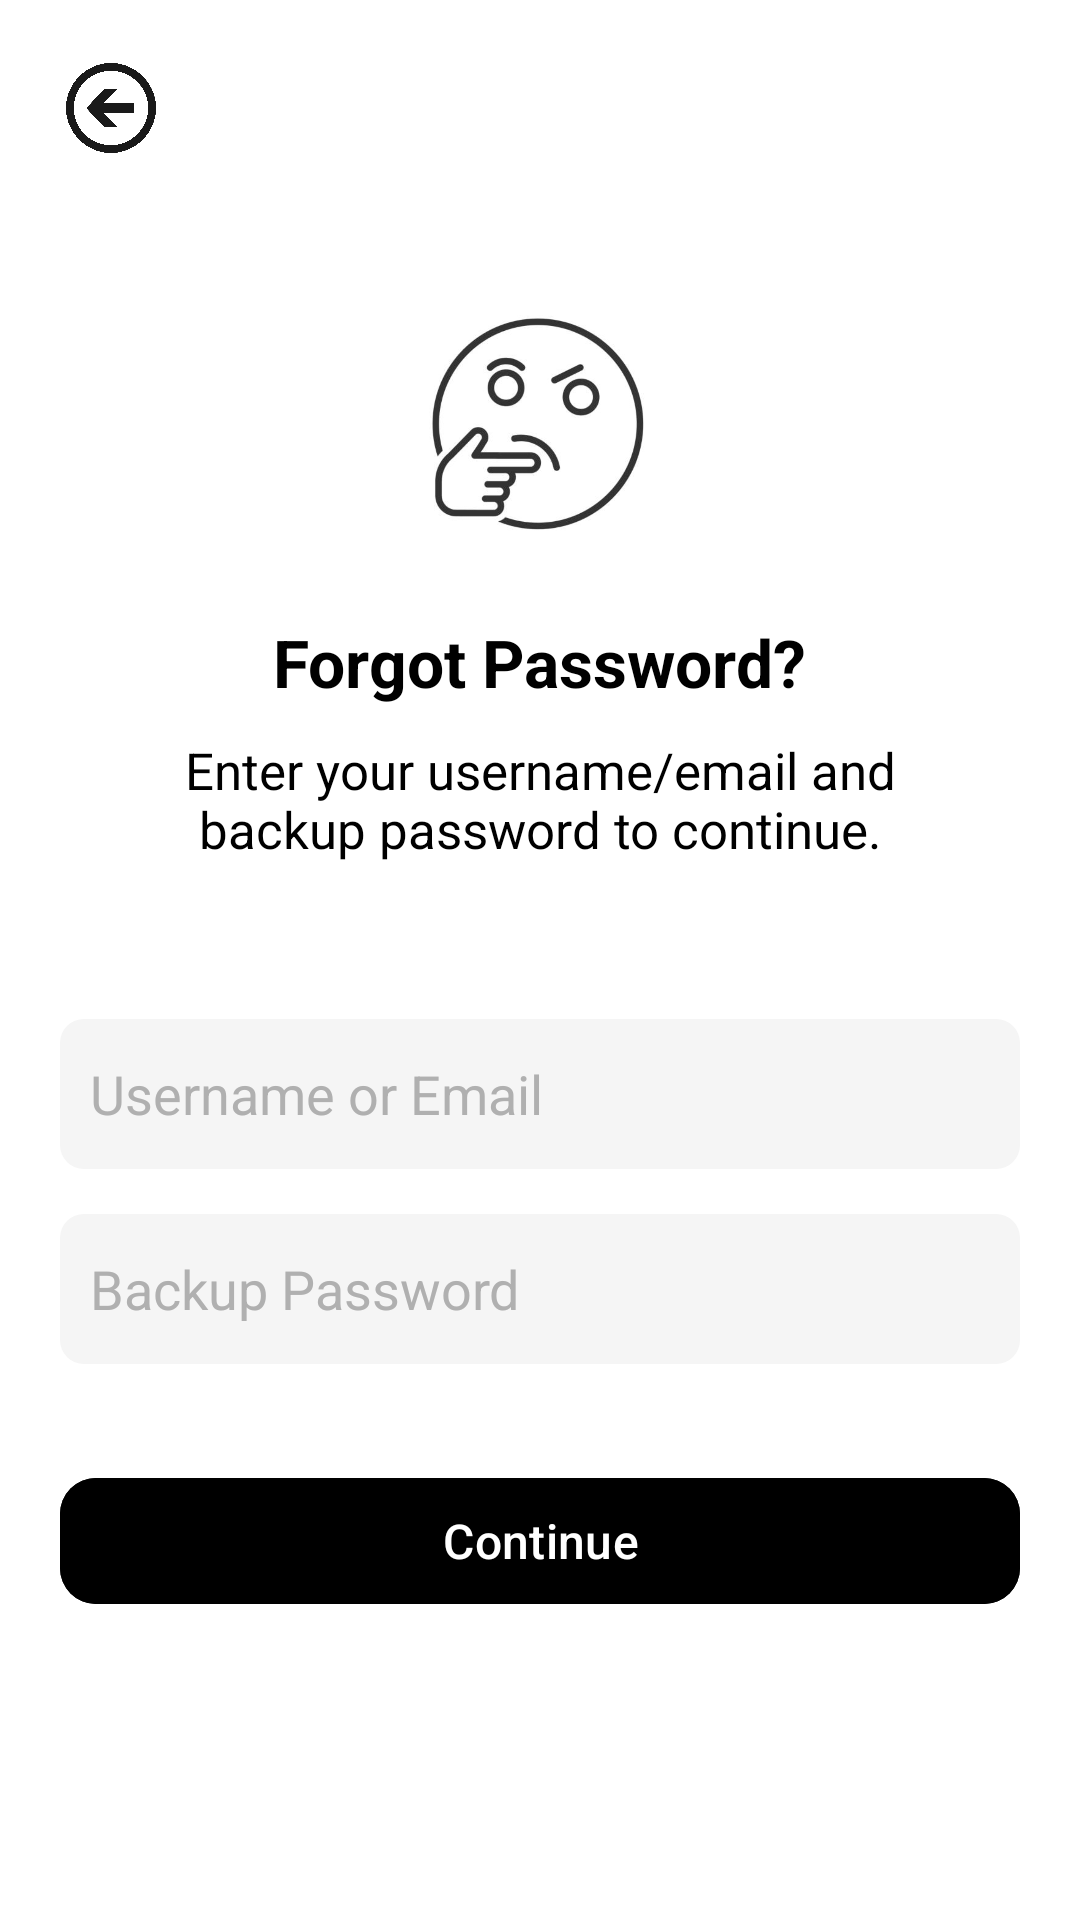

Icon bounding boxes for this 1080px×1920px phone screenshot, format (x1, y1, x2, y2):
back: (66, 63, 156, 153)
confused face: (432, 318, 644, 530)
